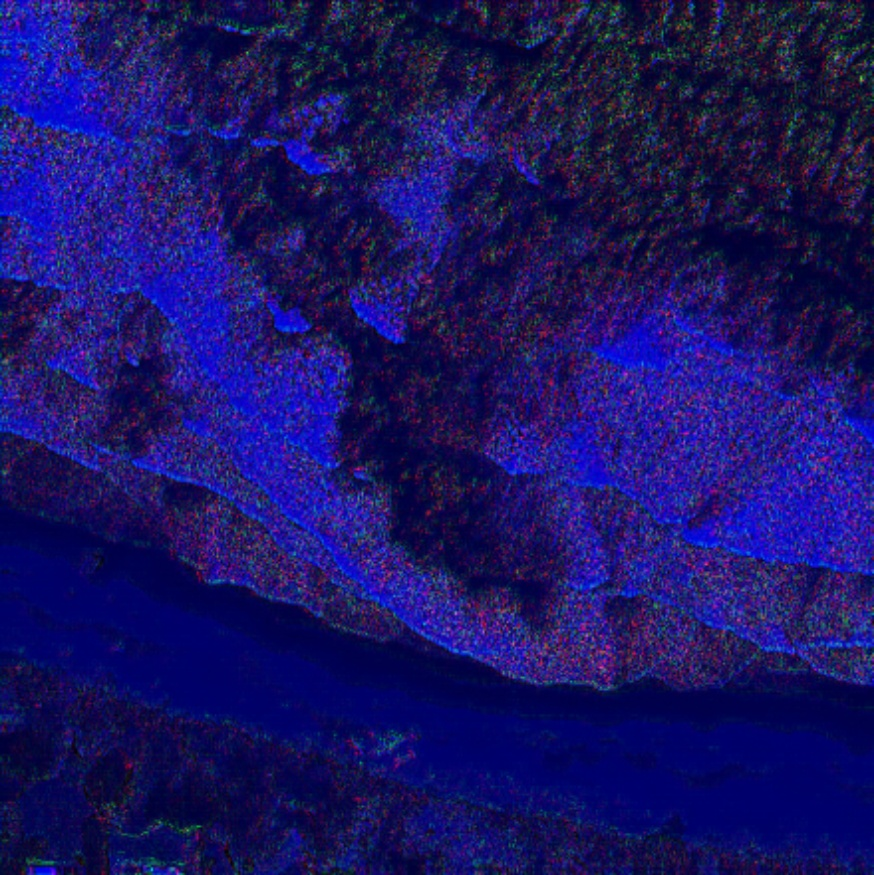rip_current: (287, 111, 689, 614)
